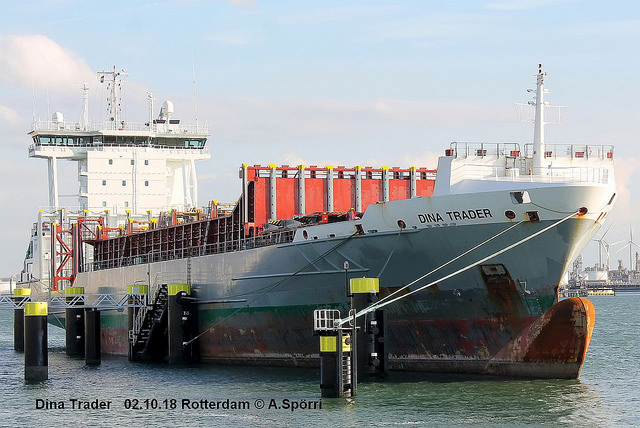container_ship: (8, 62, 623, 381)
